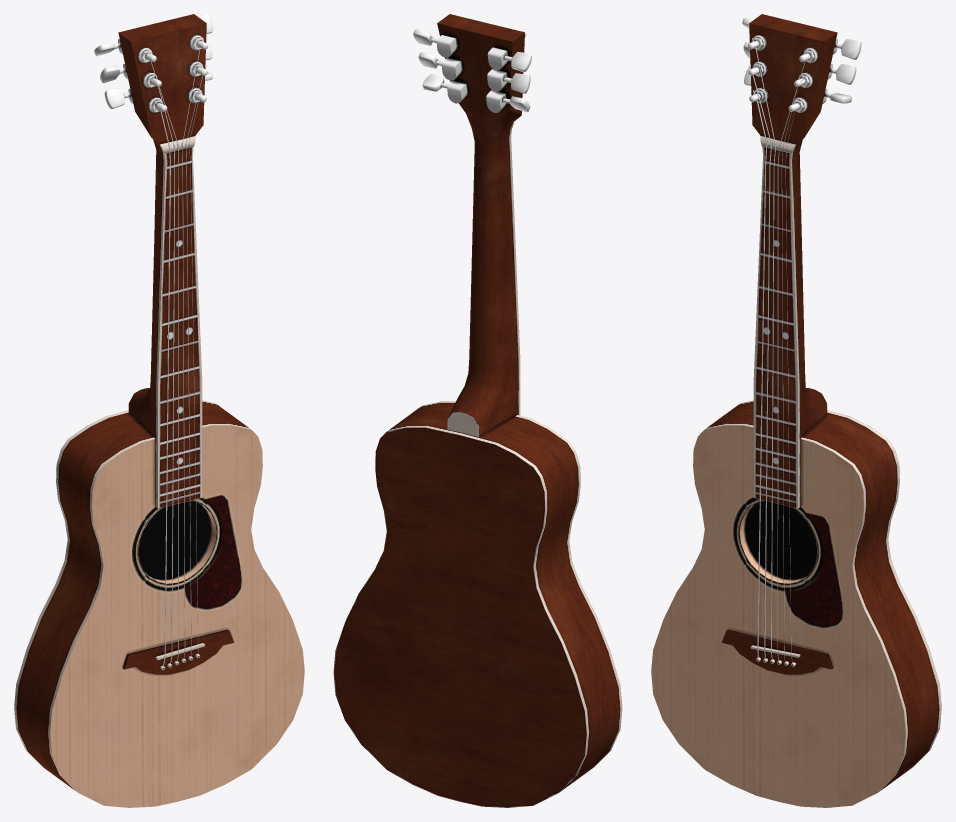
3 views of the same model, side by side, from view 1: azimuth 30°, elevation 25°; view 2: azimuth 150°, elevation 25°; view 3: azimuth 330°, elevation 25° (orthographic).
Parts seen in each view (by area): view 1: Plane; view 2: Plane; view 3: Plane.
Part boxes in pixels (x1,y1,x2,y2): Plane: [14, 14, 304, 807]; Plane: [333, 14, 622, 807]; Plane: [651, 14, 941, 807].
Size of the model in its own units: 0.6987 by 2 by 0.2065.
Materials: 1 (1 with a texture image).
